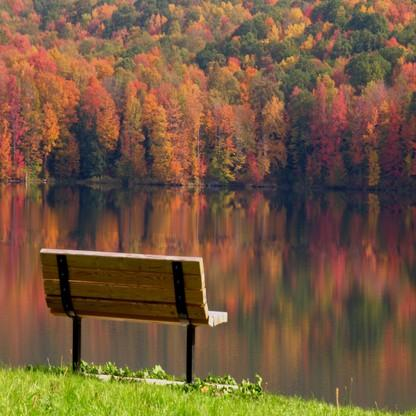obstacle: (29, 240, 236, 394)
